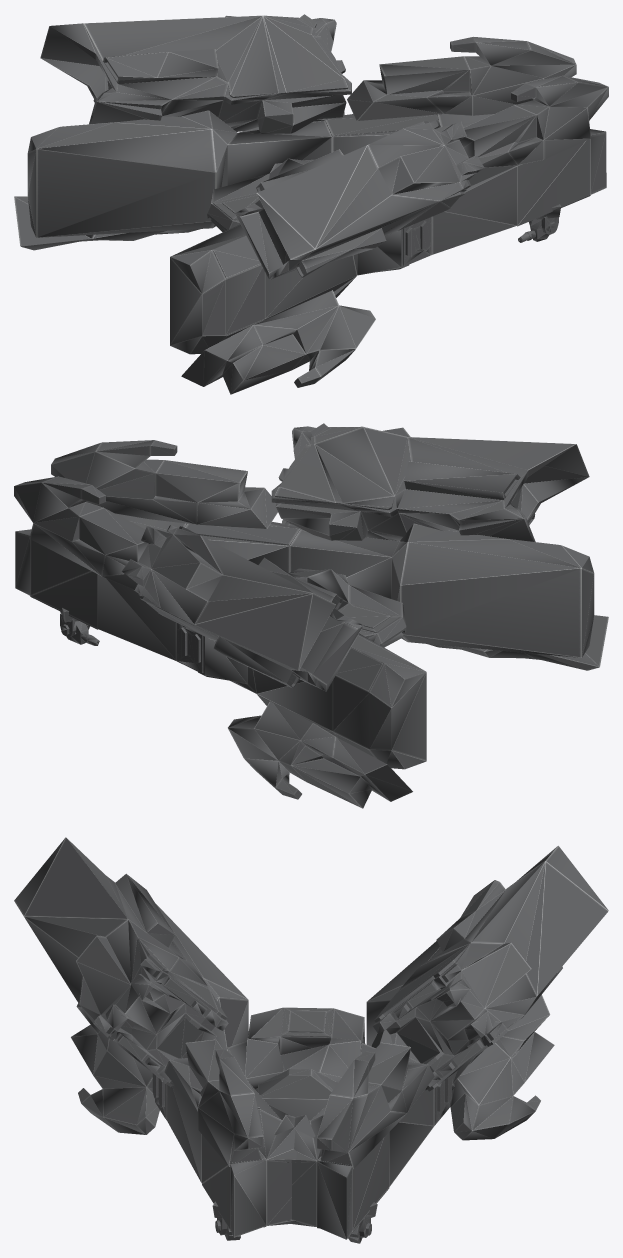
The model's file is eriax_bomber.FBX.
3 views of the same model, one above another, from view 1: azimuth 30°, elevation 25°; view 2: azimuth 150°, elevation 25°; view 3: azimuth 270°, elevation 25° (orthographic). The views are drawn at different scales.
Visible parts, largest first — view 1: VIFS001; view 2: VIFS001; view 3: VIFS001.
Part boxes in pixels (x1,y1,x2,y2): VIFS001: (14, 14, 608, 394); VIFS001: (14, 423, 608, 808); VIFS001: (14, 837, 608, 1243).
Bounding box in the file's own units: 2002 × 849 × 1917.
Materials: 1 (1 with a texture image).
